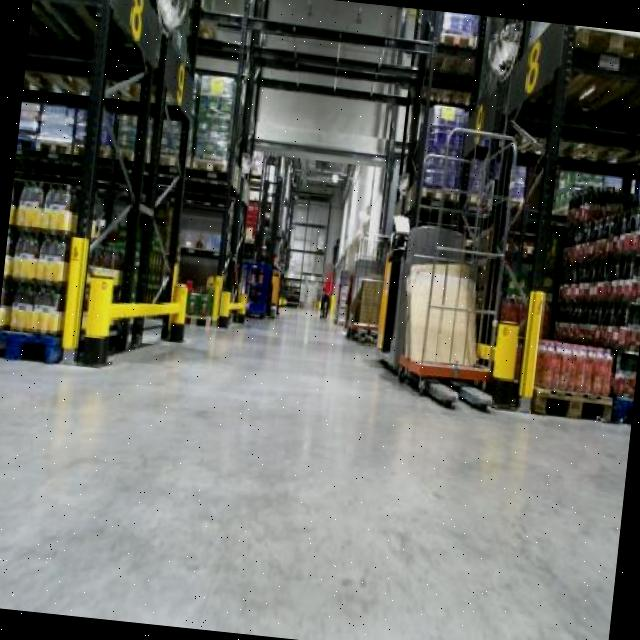pallet: (522, 384, 620, 426), (408, 180, 461, 210), (184, 150, 233, 182), (28, 134, 74, 162)
